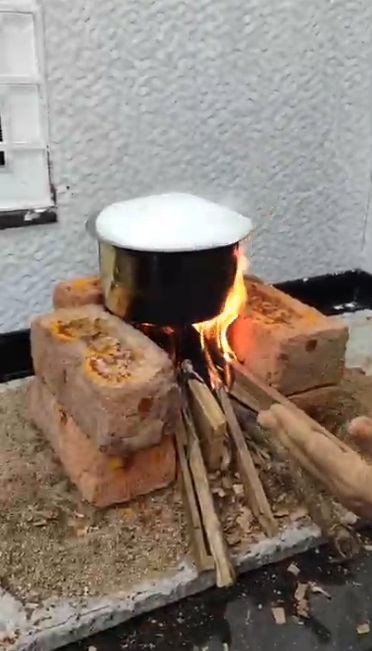Boiled: (61, 186, 267, 332)
